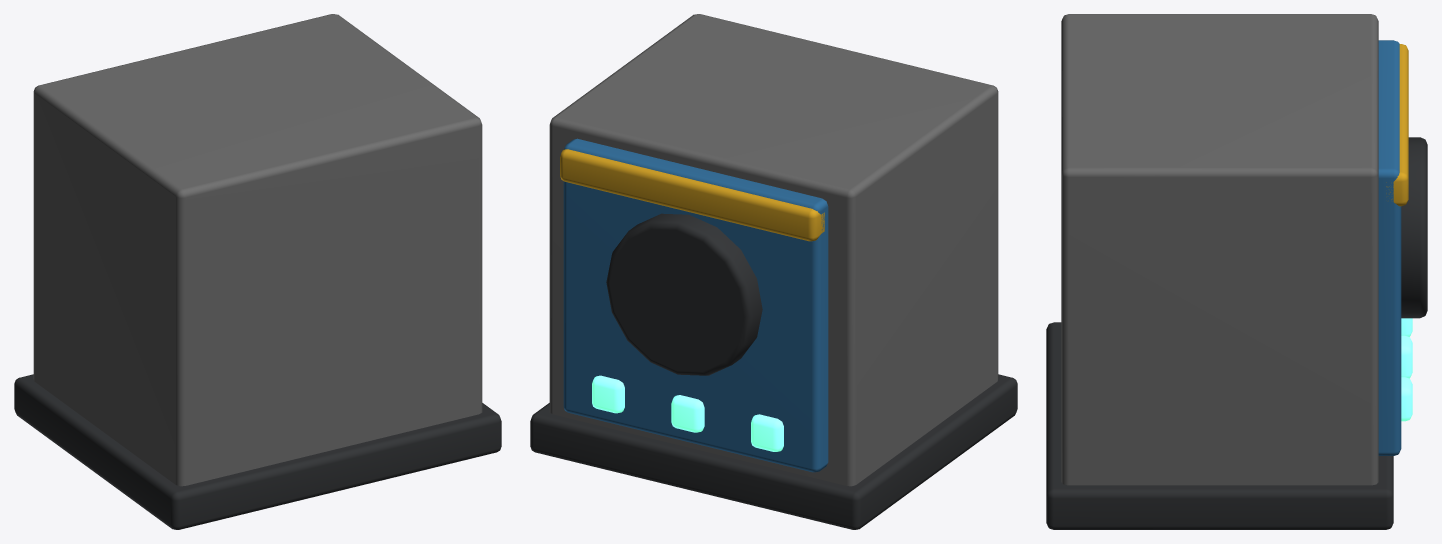
File: e-regulator.glb
3 renders of one model, left to right at view 1: azimuth 30°, elevation 25°; view 2: azimuth 150°, elevation 25°; view 3: azimuth 270°, elevation 25°, orthographic. The views are drawn at different scales.
Visible parts, largest first — view 1: e-regulator; view 2: e-regulator; view 3: e-regulator.
Boxes of the visible parts, x1,y1,x2,y2 form: e-regulator: (14, 14, 501, 529); e-regulator: (530, 14, 1017, 529); e-regulator: (1046, 14, 1427, 529).
Bounding box in the file's own units: 0.54 × 0.52 × 0.505.
